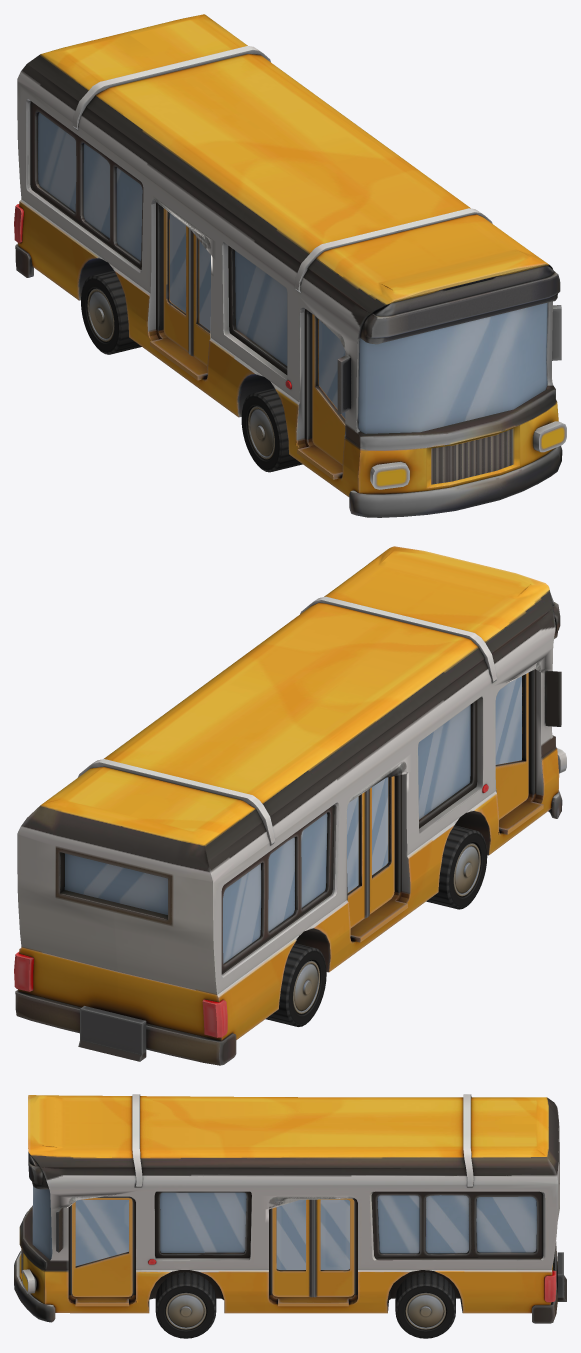
File: bus-exploding.fbx
3 views of the same model, one above another, from view 1: azimuth 30°, elevation 25°; view 2: azimuth 150°, elevation 25°; view 3: azimuth 270°, elevation 25° (orthographic). The views are drawn at different scales.
Visible parts, largest first — view 1: Bus, Back-R-Wheel, Front-R-Wheel; view 2: Bus, Front-R-Wheel, Back-R-Wheel; view 3: Bus, Front-L-Wheel, Back-L-Wheel.
Part boxes in pixels (<box>): Bus: <box>14,14,566,517</box>; Back-R-Wheel: <box>81,270,141,354</box>; Front-R-Wheel: <box>241,388,302,472</box>; Bus: <box>14,546,566,1065</box>; Front-R-Wheel: <box>426,825,487,909</box>; Back-R-Wheel: <box>265,943,326,1026</box>; Bus: <box>14,1094,566,1323</box>; Front-L-Wheel: <box>155,1272,216,1338</box>; Back-L-Wheel: <box>395,1272,455,1338</box>.
Size of the model in its own units: 2.81 by 2.91 by 8.07.
